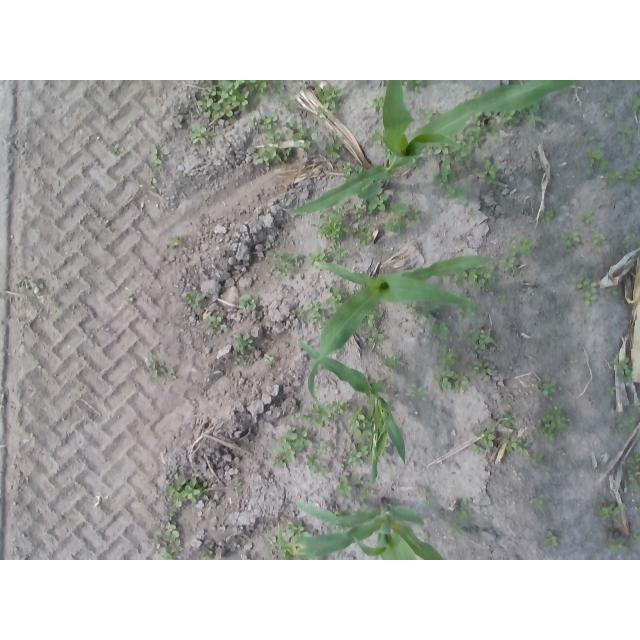Maize: (275, 80, 575, 214), (309, 258, 492, 403), (297, 340, 408, 485), (295, 496, 445, 561)
Weeds: (198, 81, 287, 120), (271, 425, 313, 468), (266, 521, 310, 560), (168, 469, 208, 507), (151, 521, 183, 560), (309, 400, 348, 427), (456, 127, 486, 161), (312, 215, 349, 242), (268, 251, 305, 278), (540, 406, 568, 441), (286, 120, 318, 148), (435, 365, 468, 390), (468, 264, 496, 290), (433, 159, 456, 188), (314, 87, 344, 109), (188, 123, 216, 146), (578, 278, 599, 307), (251, 146, 281, 166), (473, 427, 495, 453), (306, 300, 330, 323), (338, 204, 370, 221), (446, 184, 471, 205), (512, 236, 537, 256), (627, 451, 640, 489), (251, 114, 278, 132), (16, 278, 45, 294), (231, 333, 253, 354), (504, 437, 528, 456), (349, 443, 369, 465), (479, 159, 497, 183), (334, 475, 352, 498), (611, 358, 632, 377), (368, 193, 389, 211), (447, 516, 466, 535), (458, 500, 475, 521), (440, 348, 461, 365), (185, 291, 208, 306), (617, 415, 636, 433), (326, 286, 343, 306), (348, 408, 365, 427), (236, 294, 256, 310), (403, 80, 429, 92), (431, 322, 450, 338), (342, 163, 362, 178), (625, 162, 640, 182), (560, 231, 580, 246), (479, 330, 493, 351), (426, 143, 450, 155), (331, 244, 349, 260), (500, 410, 516, 428), (538, 380, 557, 395), (386, 219, 406, 233), (352, 427, 372, 441), (325, 142, 341, 159), (366, 311, 383, 327), (453, 271, 468, 289), (422, 302, 438, 318), (471, 112, 492, 124), (356, 231, 372, 246), (305, 454, 320, 470), (545, 530, 560, 546), (465, 329, 480, 345), (587, 151, 601, 168), (309, 253, 326, 267), (530, 104, 542, 123), (409, 205, 424, 220), (503, 256, 518, 271), (208, 316, 226, 328), (606, 541, 627, 551), (151, 147, 162, 166), (315, 107, 334, 118), (607, 170, 620, 186), (629, 95, 640, 113), (384, 357, 402, 368), (461, 308, 476, 321), (469, 361, 482, 376), (392, 204, 408, 216), (407, 387, 426, 397), (368, 331, 385, 342), (370, 95, 384, 108), (408, 303, 421, 317), (317, 441, 332, 453), (541, 210, 556, 222), (610, 503, 626, 514), (171, 235, 186, 246), (373, 381, 388, 392), (148, 360, 158, 376), (490, 124, 503, 136), (419, 109, 433, 120), (372, 131, 382, 146), (616, 128, 632, 137), (581, 214, 597, 223), (200, 549, 213, 560), (504, 111, 517, 122), (164, 371, 176, 382), (361, 486, 372, 498), (282, 148, 292, 160), (149, 178, 158, 191), (483, 362, 492, 375), (425, 489, 432, 505), (269, 130, 280, 140), (603, 107, 614, 117), (353, 475, 364, 485), (599, 506, 609, 517), (314, 466, 326, 475), (335, 508, 346, 517), (296, 413, 305, 424), (364, 417, 373, 428), (329, 131, 342, 138), (600, 159, 609, 169), (535, 495, 544, 505), (175, 170, 186, 178), (594, 236, 605, 244), (607, 288, 618, 296), (520, 111, 529, 120), (113, 145, 122, 154), (608, 386, 617, 395), (533, 454, 543, 462), (52, 300, 61, 308), (233, 479, 243, 486), (288, 95, 295, 105), (263, 355, 273, 362), (469, 208, 476, 216), (585, 137, 596, 142), (129, 294, 135, 302), (296, 309, 304, 315), (547, 463, 553, 470), (499, 293, 505, 300), (160, 362, 164, 371), (636, 241, 640, 249), (632, 140, 638, 145), (580, 263, 585, 267)
